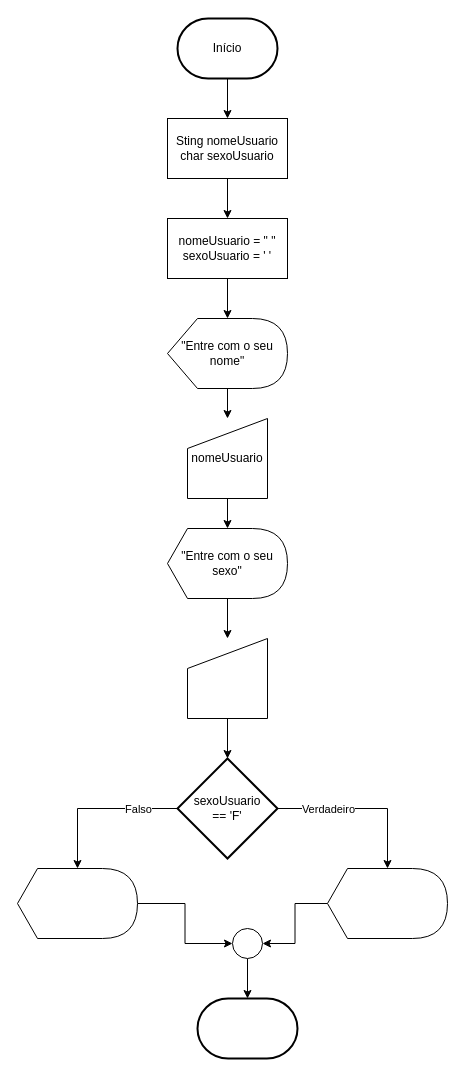
The diagram is 465 pixels wide and 1076 high, and some of its shapes have lost their labels. Here are the shapes that lost their labels. From the top down, the centre of each, then its label:
point 227,678: sexoUsuario
point 77,903: "Seu gênero é masculino"
point 387,903: "Seu gênero é feminino"
point 247,1028: Fim
